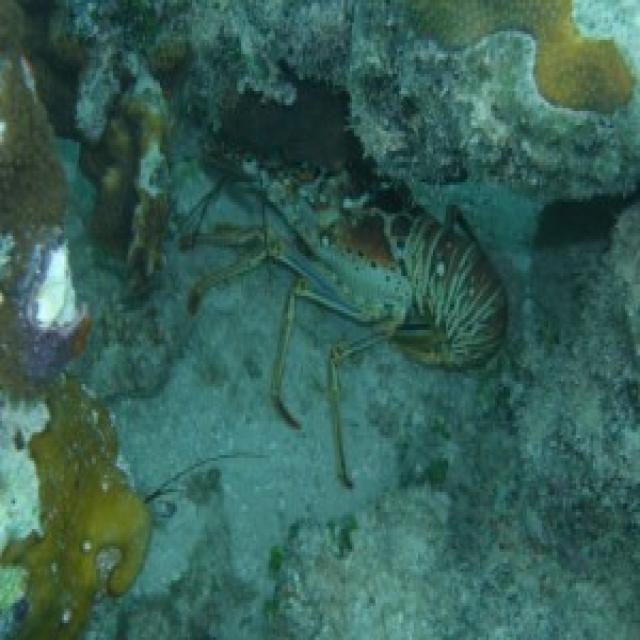lobsters: (188, 86, 518, 425)
